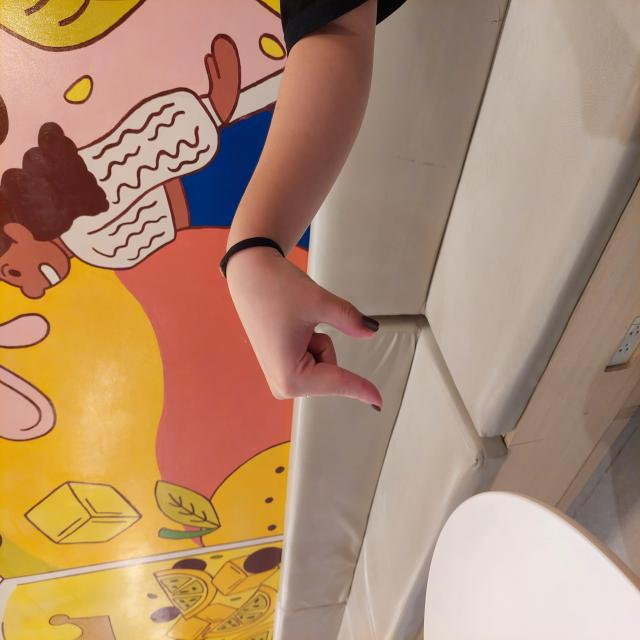Q: (226, 222, 392, 385)
